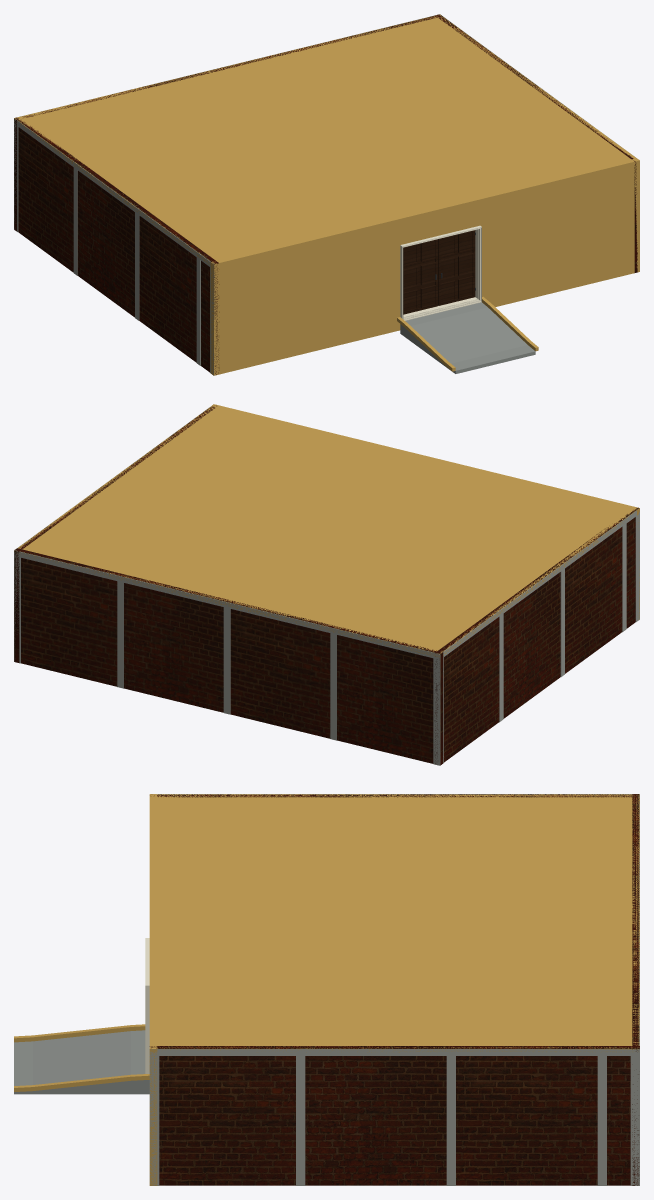
File: building.glb
3 views of the same model, one above another, from view 1: azimuth 30°, elevation 25°; view 2: azimuth 150°, elevation 25°; view 3: azimuth 270°, elevation 25° (orthographic). The views are drawn at different scales.
Visible parts, largest first — view 1: roof/house:0/roof_slab#0001, house:0/edge0/z0/house:0/edge0/z0/wall_0_0, house:0/edge3/z0/house:0/edge3/z0/wall_0_0, entrance/rampa_cochera/entrance_ramp#0001, house:0/edge2/z0/house:0/edge2/z0/wall_0_0, house:0/edge3/z0/house:0/edge3/z0/beam_0_0, house:0/edge1/z0/house:0/edge1/z0/wall_0_0, house:0/edge3/z0/house:0/edge3/z0/column_3_0, house:0/edge3/z0/house:0/edge3/z0/column_2_0, house:0/edge3/z0/house:0/edge3/z0/column_4_0; view 2: roof/house:0/roof_slab#0001, house:0/edge2/z0/house:0/edge2/z0/wall_0_0, house:0/edge3/z0/house:0/edge3/z0/wall_0_0, house:0/edge2/z0/house:0/edge2/z0/beam_0_0, house:0/edge1/z0/house:0/edge1/z0/wall_0_0, house:0/edge3/z0/house:0/edge3/z0/beam_0_0, house:0/edge0/z0/house:0/edge0/z0/wall_0_0, house:0/edge2/z0/house:0/edge2/z0/column_3_0, house:0/edge2/z0/house:0/edge2/z0/column_1_0, house:0/edge2/z0/house:0/edge2/z0/column_2_0, house:0/edge2/z0/house:0/edge2/z0/column_4_0, house:0/edge3/z0/house:0/edge3/z0/column_2_0 (+3 smaller); view 3: roof/house:0/roof_slab#0001, house:0/edge1/z0/house:0/edge1/z0/wall_0_0, entrance/rampa_cochera/entrance_ramp#0001, house:0/edge1/z0/house:0/edge1/z0/beam_0_0, house:0/edge0/z0/house:0/edge0/z0/wall_0_0, house:0/edge2/z0/house:0/edge2/z0/wall_0_0, house:0/edge3/z0/house:0/edge3/z0/wall_0_0, house:0/edge1/z0/house:0/edge1/z0/column_2_0, house:0/edge1/z0/house:0/edge1/z0/column_3_0, house:0/edge1/z0/house:0/edge1/z0/column_4_0, house:0/edge1/z0/house:0/edge1/z0/column_1_0, house:0/edge1/z0/house:0/edge1/z0/column_0_0 (+3 smaller).
Boxes of the visible parts, x1=… form: roof/house:0/roof_slab#0001: x1=14, y1=14, x2=639, y2=267; house:0/edge0/z0/house:0/edge0/z0/wall_0_0: x1=210, y1=158, x2=639, y2=375; house:0/edge3/z0/house:0/edge3/z0/wall_0_0: x1=15, y1=117, x2=219, y2=374; entrance/rampa_cochera/entrance_ramp#0001: x1=400, y1=302, x2=535, y2=373; house:0/edge2/z0/house:0/edge2/z0/wall_0_0: x1=14, y1=15, x2=437, y2=231; house:0/edge3/z0/house:0/edge3/z0/beam_0_0: x1=14, y1=119, x2=214, y2=267; house:0/edge1/z0/house:0/edge1/z0/wall_0_0: x1=435, y1=14, x2=637, y2=272; house:0/edge3/z0/house:0/edge3/z0/column_3_0: x1=135, y1=212, x2=139, y2=320; house:0/edge3/z0/house:0/edge3/z0/column_2_0: x1=73, y1=167, x2=77, y2=275; house:0/edge3/z0/house:0/edge3/z0/column_4_0: x1=196, y1=257, x2=200, y2=365; roof/house:0/roof_slab#0001: x1=14, y1=404, x2=639, y2=657; house:0/edge2/z0/house:0/edge2/z0/wall_0_0: x1=14, y1=548, x2=443, y2=765; house:0/edge3/z0/house:0/edge3/z0/wall_0_0: x1=434, y1=507, x2=638, y2=764; house:0/edge2/z0/house:0/edge2/z0/beam_0_0: x1=14, y1=550, x2=440, y2=659; house:0/edge1/z0/house:0/edge1/z0/wall_0_0: x1=14, y1=405, x2=216, y2=662; house:0/edge3/z0/house:0/edge3/z0/beam_0_0: x1=440, y1=510, x2=639, y2=657; house:0/edge0/z0/house:0/edge0/z0/wall_0_0: x1=211, y1=404, x2=639, y2=619; house:0/edge2/z0/house:0/edge2/z0/column_3_0: x1=223, y1=607, x2=230, y2=714; house:0/edge2/z0/house:0/edge2/z0/column_1_0: x1=433, y1=658, x2=440, y2=765; house:0/edge2/z0/house:0/edge2/z0/column_2_0: x1=117, y1=581, x2=123, y2=688; house:0/edge2/z0/house:0/edge2/z0/column_4_0: x1=330, y1=633, x2=336, y2=740; house:0/edge3/z0/house:0/edge3/z0/column_2_0: x1=499, y1=613, x2=503, y2=722; roof/house:0/roof_slab#0001: x1=149, y1=794, x2=639, y2=1052; house:0/edge1/z0/house:0/edge1/z0/wall_0_0: x1=149, y1=1046, x2=639, y2=1185; entrance/rampa_cochera/entrance_ramp#0001: x1=14, y1=1030, x2=149, y2=1094; house:0/edge1/z0/house:0/edge1/z0/beam_0_0: x1=149, y1=1049, x2=639, y2=1055; house:0/edge0/z0/house:0/edge0/z0/wall_0_0: x1=149, y1=794, x2=157, y2=1185; house:0/edge2/z0/house:0/edge2/z0/wall_0_0: x1=632, y1=794, x2=639, y2=1185; house:0/edge3/z0/house:0/edge3/z0/wall_0_0: x1=154, y1=794, x2=636, y2=797; house:0/edge1/z0/house:0/edge1/z0/column_2_0: x1=296, y1=1056, x2=305, y2=1185; house:0/edge1/z0/house:0/edge1/z0/column_3_0: x1=446, y1=1056, x2=455, y2=1185; house:0/edge1/z0/house:0/edge1/z0/column_4_0: x1=597, y1=1056, x2=606, y2=1185; house:0/edge1/z0/house:0/edge1/z0/column_1_0: x1=630, y1=1056, x2=639, y2=1185; house:0/edge1/z0/house:0/edge1/z0/column_0_0: x1=149, y1=1056, x2=159, y2=1185.
Size of the model in its own units: 16 by 4.12 by 16.6.
7 materials, 2 textured.
